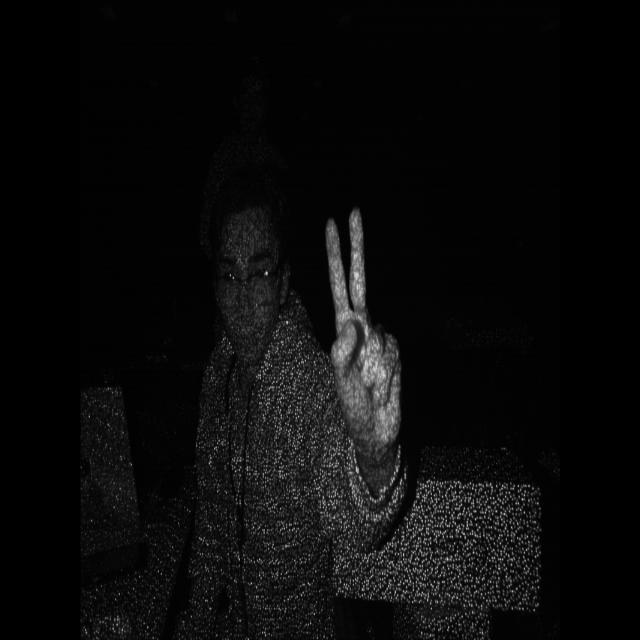V: (317, 190, 428, 492)
